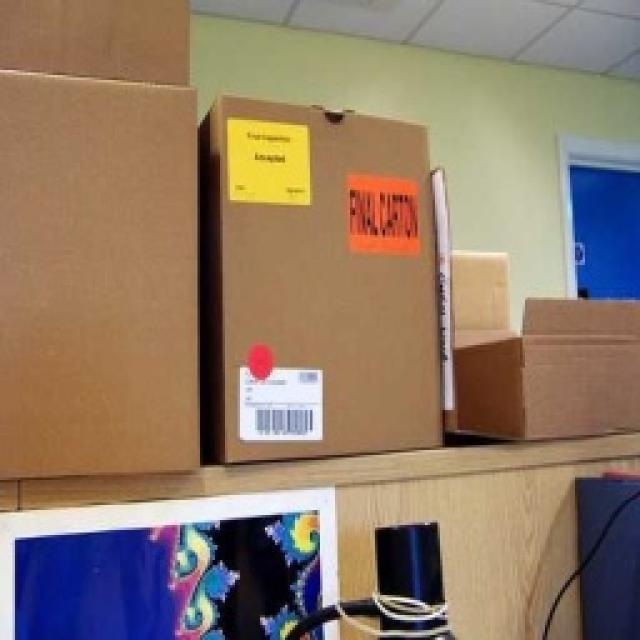box: (210, 92, 443, 462), (0, 58, 200, 472), (442, 248, 640, 432), (0, 0, 192, 75)
